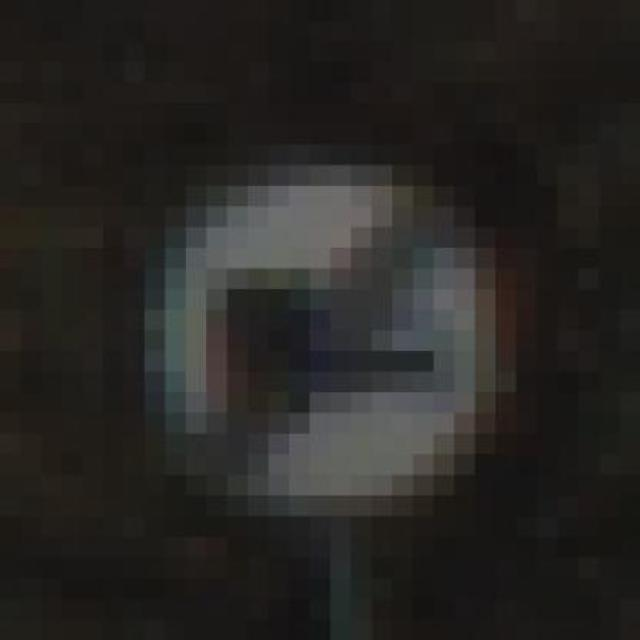Overtaking by trucks is prohibited: (123, 83, 537, 537)
